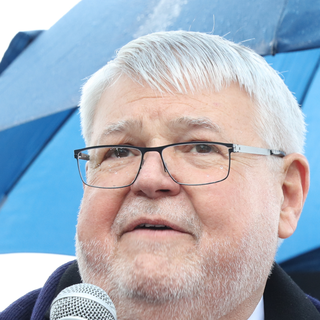eye: (176, 134, 225, 165), (96, 143, 144, 167)
